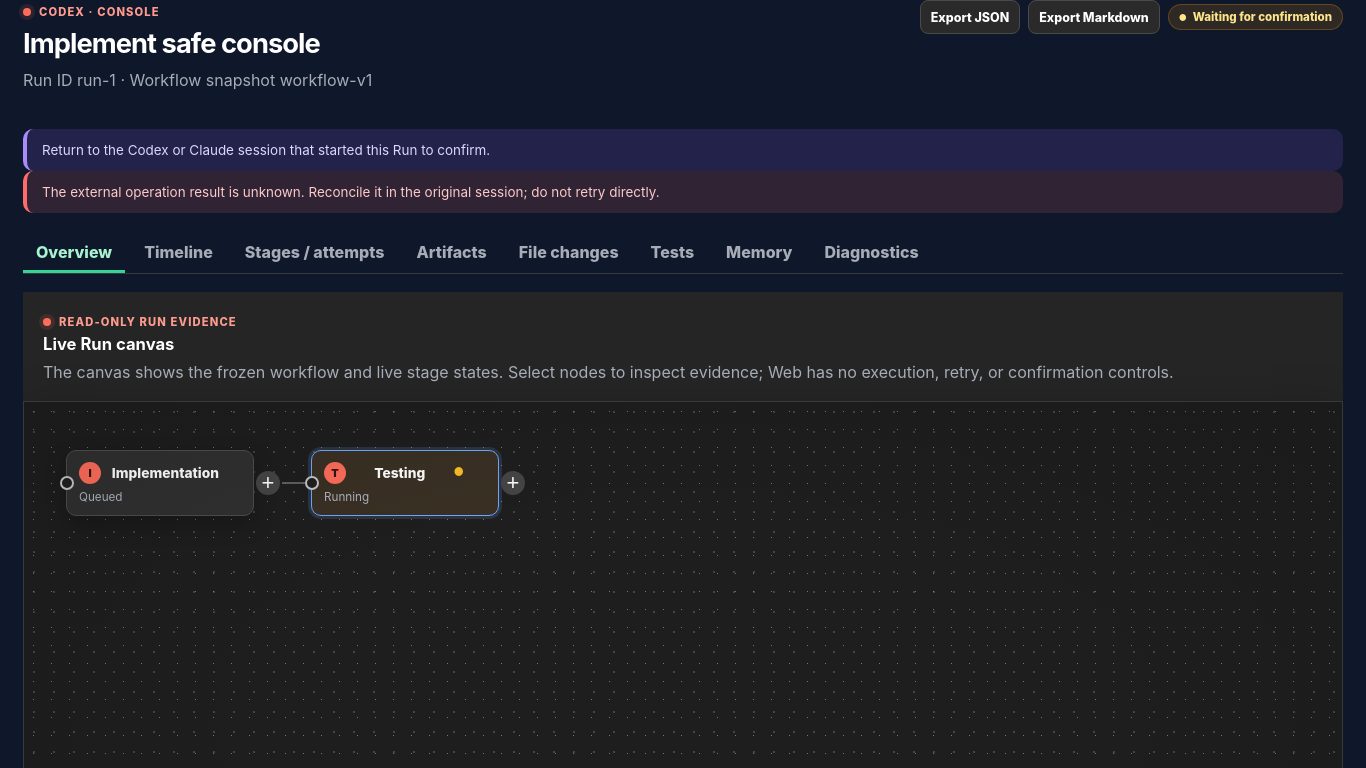
Test: translates artifact download actions in English
Expected: the heading "Implement safe console" is shown, [23,27,320,60]
Click the tab "Artifacts": (452, 252) [403,231,500,273]
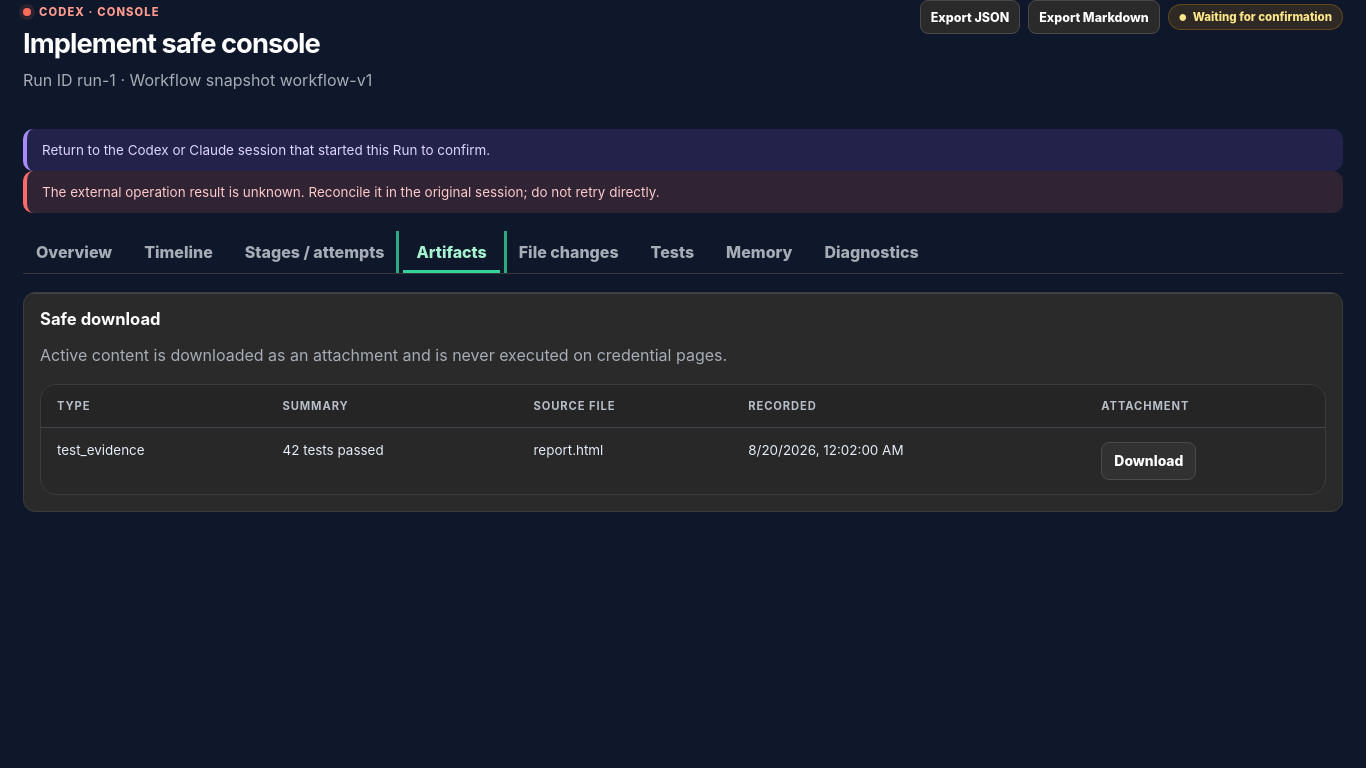
Now the link "Download" is shown, box [1101,442,1196,480]
Click the tab "Tests": (672, 252) [638,231,707,273]
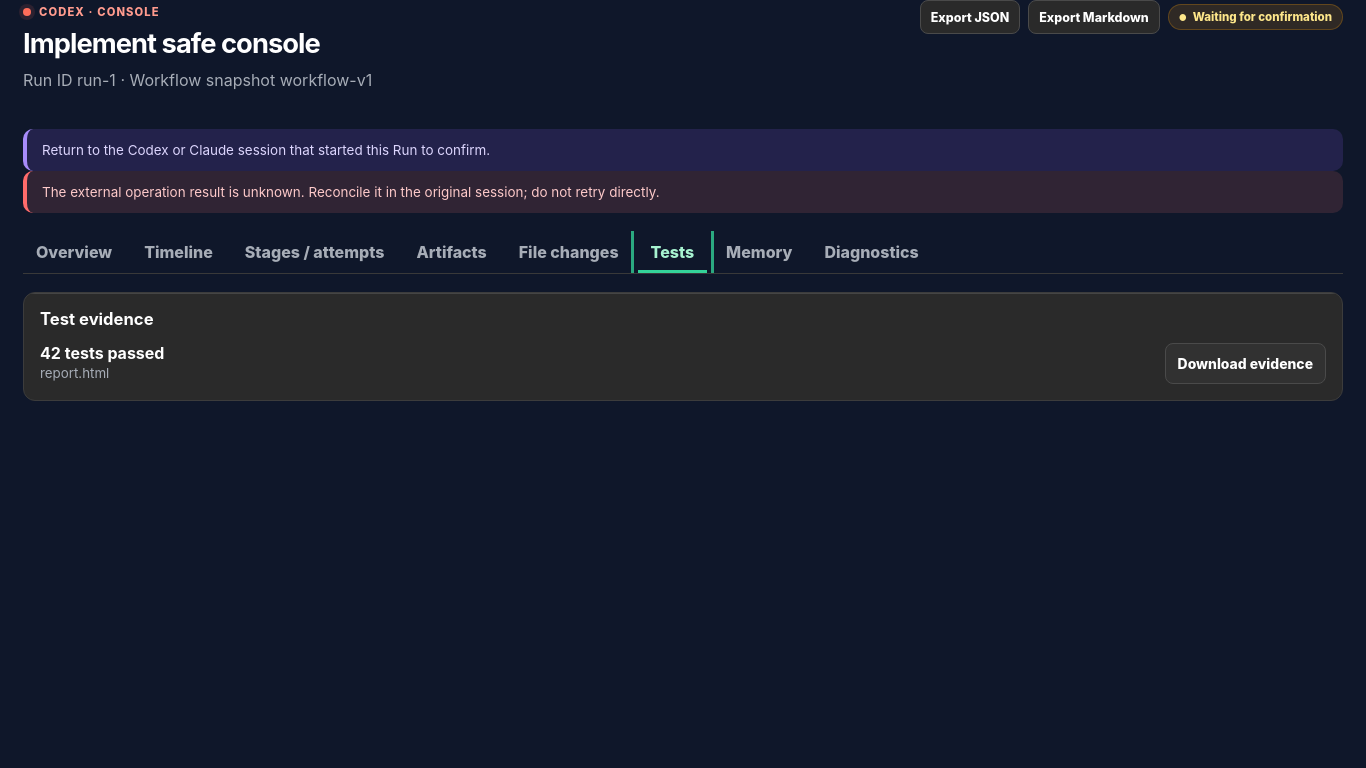
Now the link "Download evidence" is shown, box [1165,343,1326,384]
